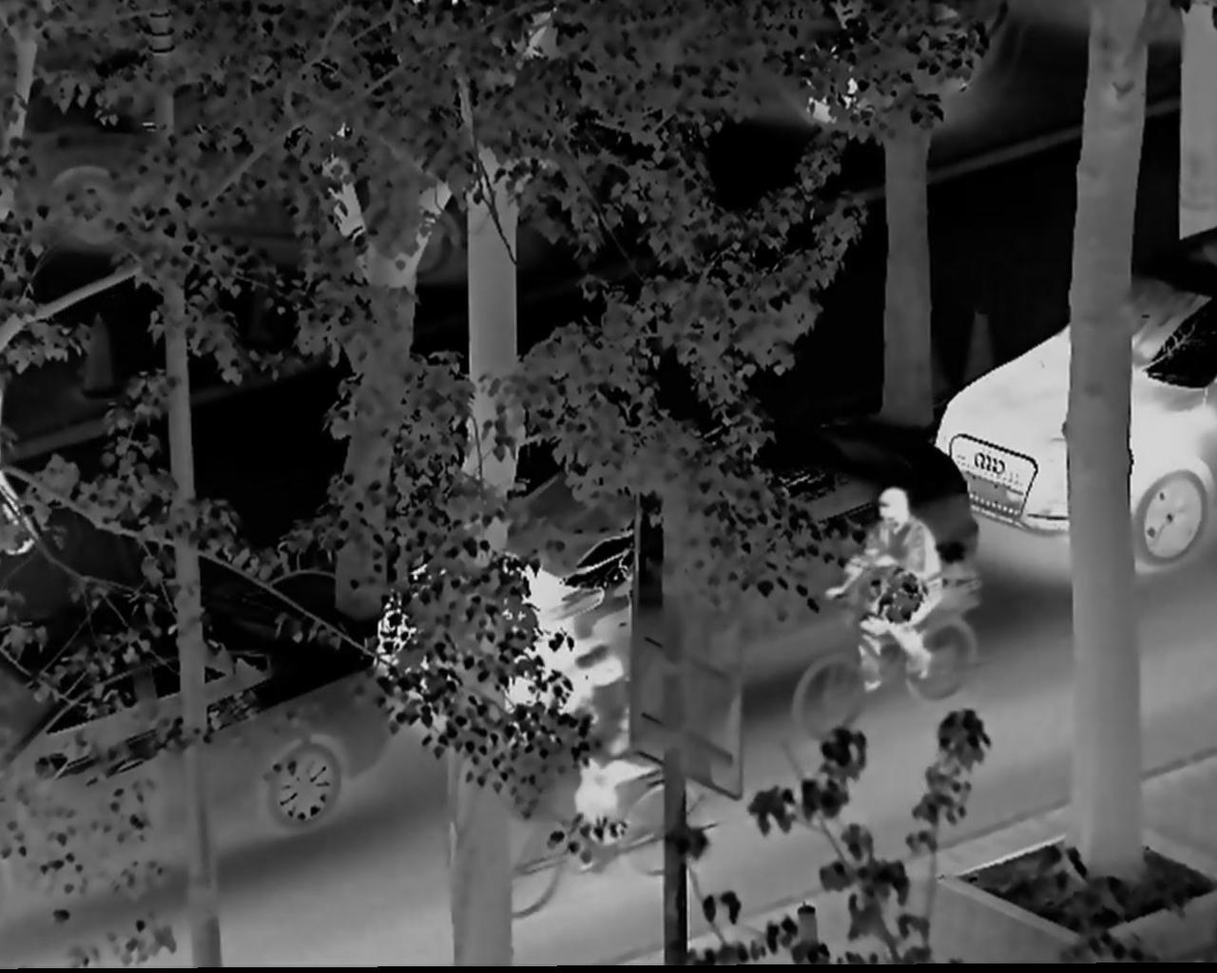person: (823, 481, 967, 707)
